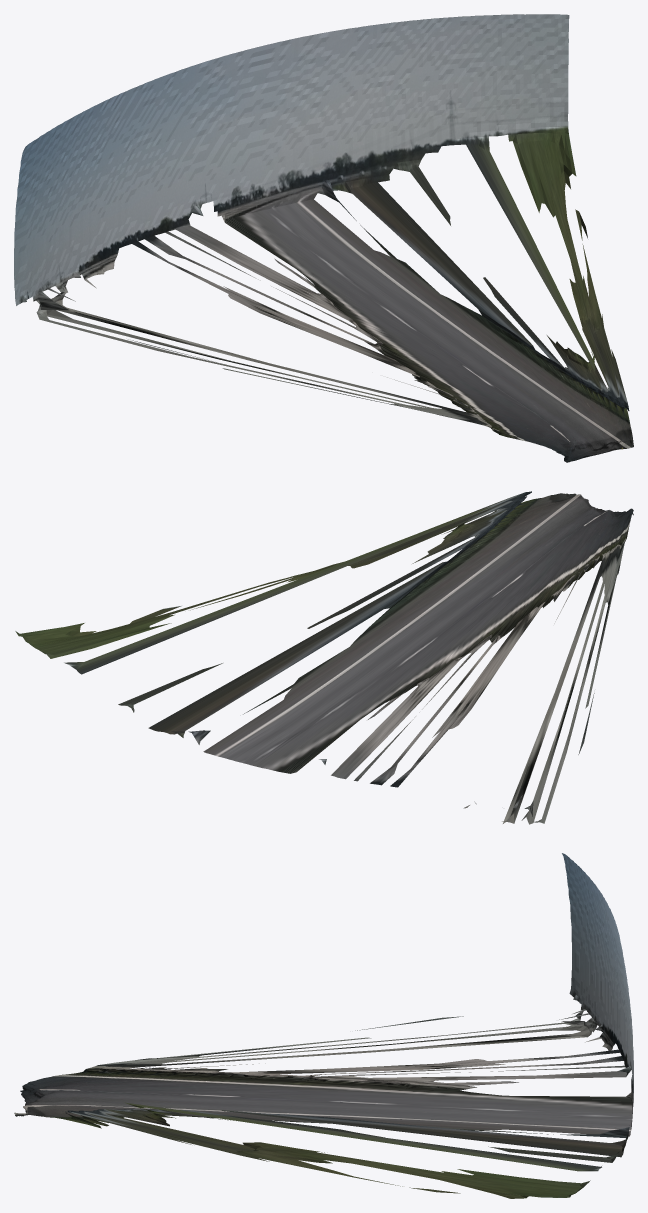
3 renders of one model, top to bottom at view 1: azimuth 30°, elevation 25°; view 2: azimuth 150°, elevation 25°; view 3: azimuth 270°, elevation 25°, orthographic. The views are drawn at different scales.
Parts seen in each view (by area): view 1: defaultobject; view 2: defaultobject; view 3: defaultobject.
Boxes of the visible parts, box(x1,y1,x2,y2) form: defaultobject: box(14, 14, 633, 462); defaultobject: box(15, 491, 633, 824); defaultobject: box(14, 853, 633, 1198).
Bounding box in the file's own units: 41.12 × 13.69 × 44.78.
1 material, 1 textured.
